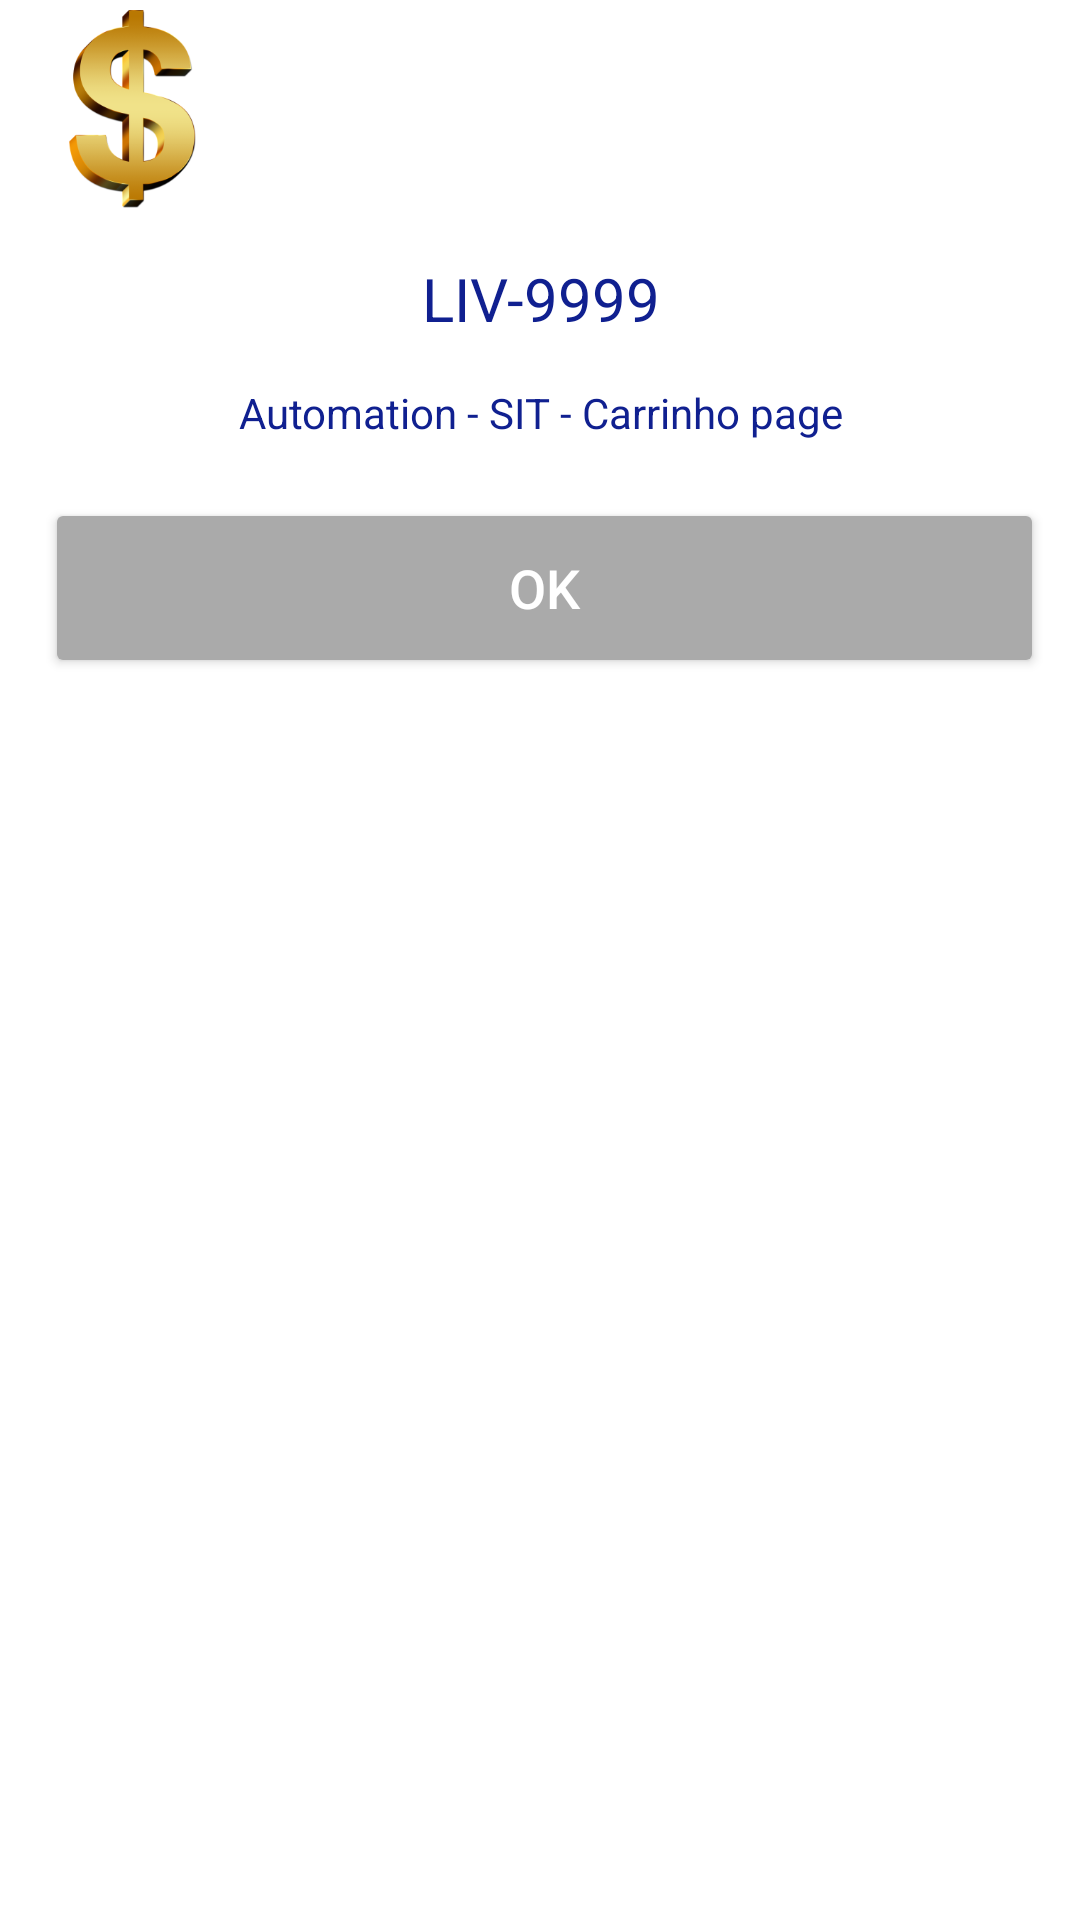

Icon click points for this 1080 x 1920 phone screenshot, format (x=x, y=y):
cifrao: (x=132, y=109)
